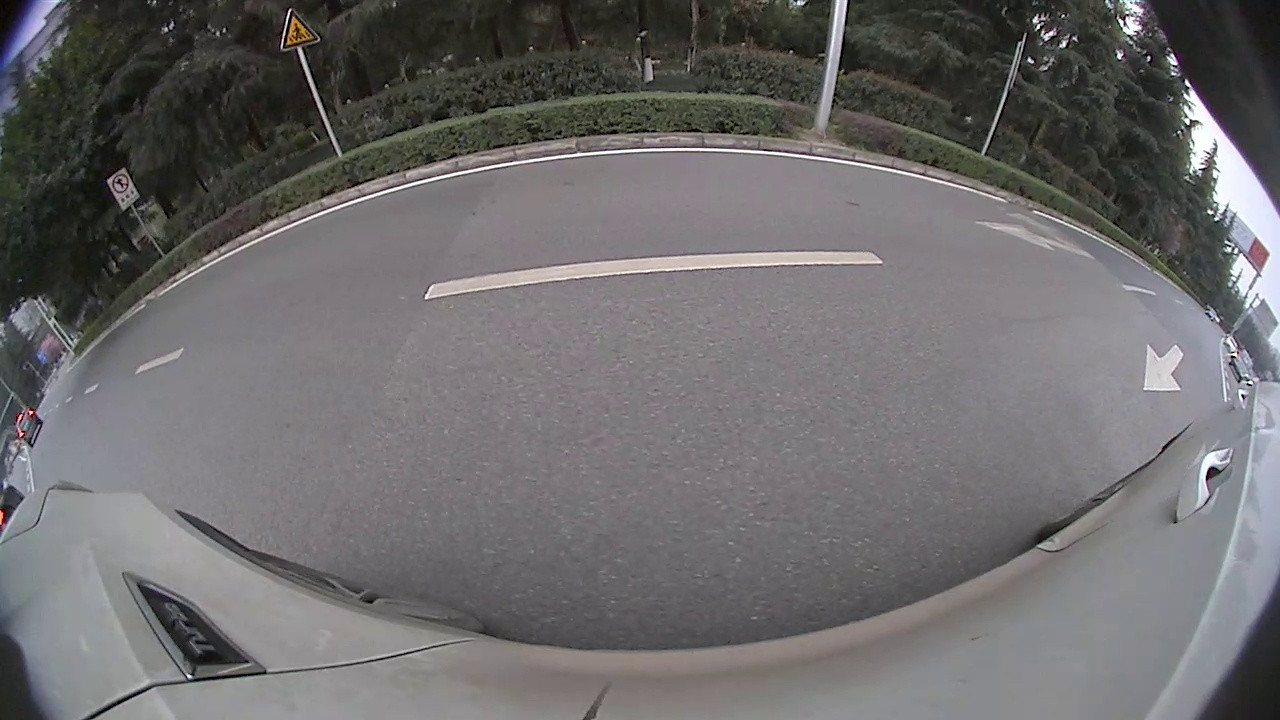bus: (742, 20, 1072, 270), (1083, 143, 1279, 398)
car: (213, 104, 519, 305), (531, 92, 824, 282), (1044, 186, 1113, 292), (519, 165, 532, 196)
front: (1145, 288, 1194, 347), (492, 184, 520, 231)
rear: (379, 205, 436, 287)
